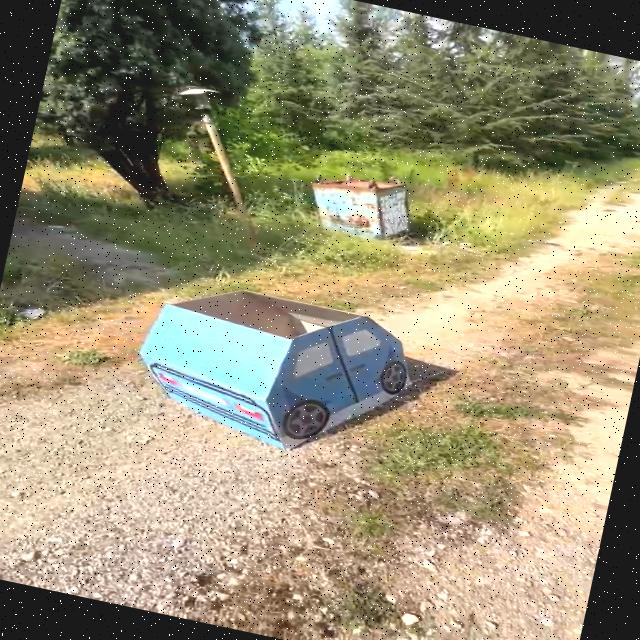blue_car: (94, 241, 440, 480)
